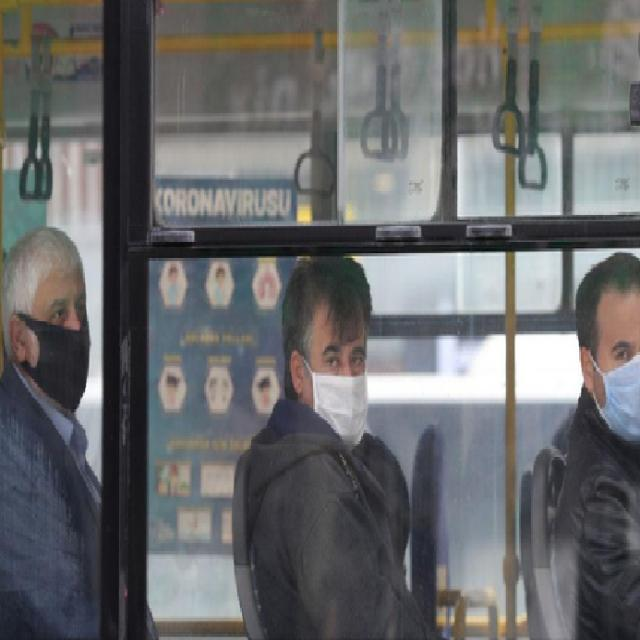mask: (289, 356, 385, 451), (20, 308, 101, 406), (583, 346, 640, 457)
